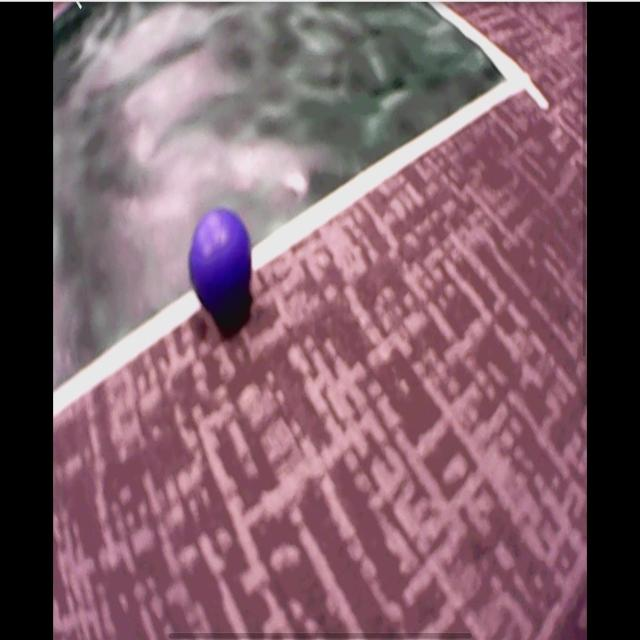ball: (189, 208, 253, 314)
